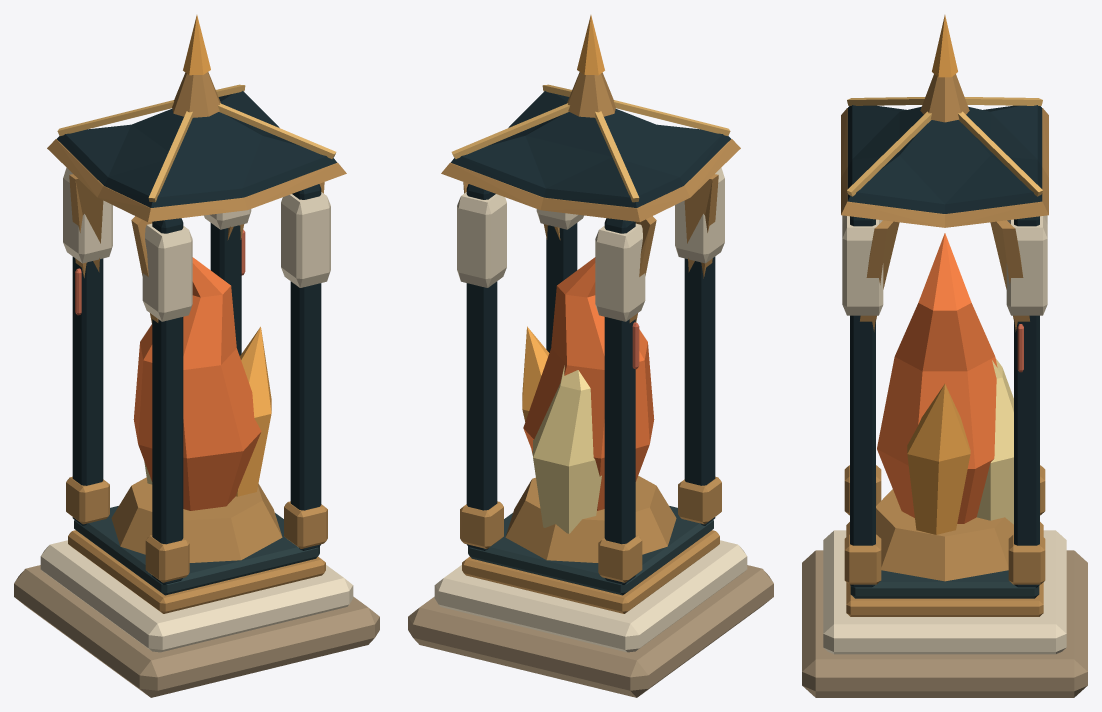
Rendered from Tower_FlameLantern.fbx.
The picture shows the model from 3 angles, left to right: view 1: azimuth 30°, elevation 25°; view 2: azimuth 150°, elevation 25°; view 3: azimuth 270°, elevation 25°; orthographic projection. The views are drawn at different scales.
Parts seen in each view (by area): view 1: Tower_FlameLantern; view 2: Tower_FlameLantern; view 3: Tower_FlameLantern.
Part boxes in pixels (x1=…): Tower_FlameLantern: x1=14, y1=15, x2=379, y2=697; Tower_FlameLantern: x1=408, y1=15, x2=773, y2=697; Tower_FlameLantern: x1=802, y1=15, x2=1087, y2=697.
Bounding box in the file's own units: 0.94 × 2.29 × 0.94.
